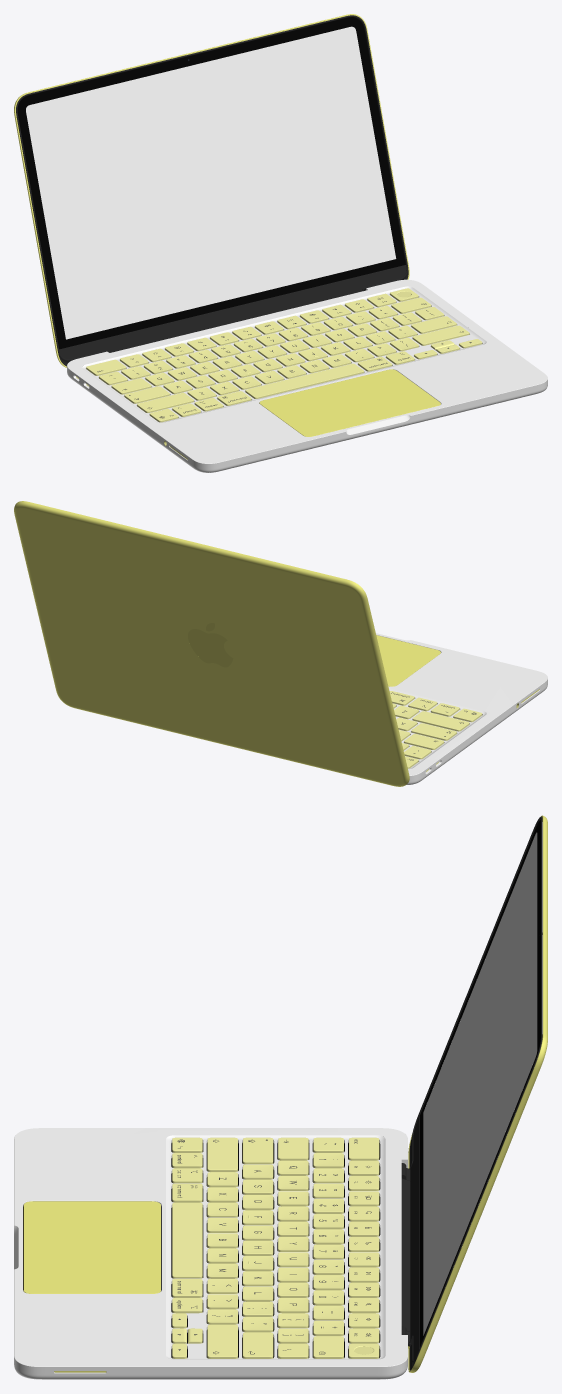
3 views of the same model, one above another, from view 1: azimuth 30°, elevation 25°; view 2: azimuth 150°, elevation 25°; view 3: azimuth 270°, elevation 25° (orthographic). The views are drawn at different scales.
Parts seen in each view (by area): view 1: rvnQqsVlUxgRHpf, AqcQCwqkepkmIxJ, IYjUsjnVPLevabB, LUMtYvTEVNmTHoQ, TJrncXRMBNoKueV, RGLDQJKTekftnoB, LlJbyrEiirReHbD, sGDniMbgLiwHqFw, LTxTFlhLWoHyhvo, fylMvyMYpOJcbku; view 2: LTxTFlhLWoHyhvo, IYjUsjnVPLevabB, AqcQCwqkepkmIxJ, TJrncXRMBNoKueV, ZMGnWkiZEPXzRiw, RGLDQJKTekftnoB; view 3: AqcQCwqkepkmIxJ, IYjUsjnVPLevabB, rvnQqsVlUxgRHpf, TJrncXRMBNoKueV, RGLDQJKTekftnoB, LTxTFlhLWoHyhvo, LUMtYvTEVNmTHoQ, TaNFpMmKHqePKML, sGDniMbgLiwHqFw, LlJbyrEiirReHbD, DkYWFuNVgaaEoYb, fylMvyMYpOJcbku.
Part boxes in pixels (left/top/right/bottom): rvnQqsVlUxgRHpf: left=26, top=26, right=396, bottom=339; AqcQCwqkepkmIxJ: left=86, top=293, right=482, bottom=422; IYjUsjnVPLevabB: left=67, top=279, right=547, bottom=472; LUMtYvTEVNmTHoQ: left=17, top=17, right=405, bottom=349; TJrncXRMBNoKueV: left=259, top=369, right=440, bottom=436; RGLDQJKTekftnoB: left=81, top=286, right=486, bottom=422; LlJbyrEiirReHbD: left=59, top=265, right=406, bottom=359; sGDniMbgLiwHqFw: left=16, top=15, right=408, bottom=366; LTxTFlhLWoHyhvo: left=14, top=14, right=409, bottom=367; fylMvyMYpOJcbku: left=97, top=297, right=471, bottom=418; LTxTFlhLWoHyhvo: left=14, top=501, right=409, bottom=786; IYjUsjnVPLevabB: left=376, top=633, right=547, bottom=784; AqcQCwqkepkmIxJ: left=389, top=691, right=482, bottom=768; TJrncXRMBNoKueV: left=376, top=635, right=440, bottom=686; ZMGnWkiZEPXzRiw: left=188, top=623, right=233, bottom=667; RGLDQJKTekftnoB: left=389, top=688, right=486, bottom=769; AqcQCwqkepkmIxJ: left=172, top=1137, right=379, bottom=1358; IYjUsjnVPLevabB: left=14, top=1128, right=407, bottom=1379; rvnQqsVlUxgRHpf: left=423, top=832, right=537, bottom=1335; TJrncXRMBNoKueV: left=23, top=1201, right=160, bottom=1293; RGLDQJKTekftnoB: left=166, top=1135, right=385, bottom=1359; LTxTFlhLWoHyhvo: left=408, top=815, right=547, bottom=1372; LUMtYvTEVNmTHoQ: left=419, top=820, right=540, bottom=1347; TaNFpMmKHqePKML: left=171, top=1142, right=380, bottom=1357; sGDniMbgLiwHqFw: left=409, top=817, right=542, bottom=1370; LlJbyrEiirReHbD: left=410, top=1116, right=419, bottom=1360; DkYWFuNVgaaEoYb: left=401, top=1178, right=410, bottom=1331; fylMvyMYpOJcbku: left=176, top=1139, right=371, bottom=1354.
Size of what is drawn, in the model's own units: 0.2968 by 0.1962 by 0.2804.
